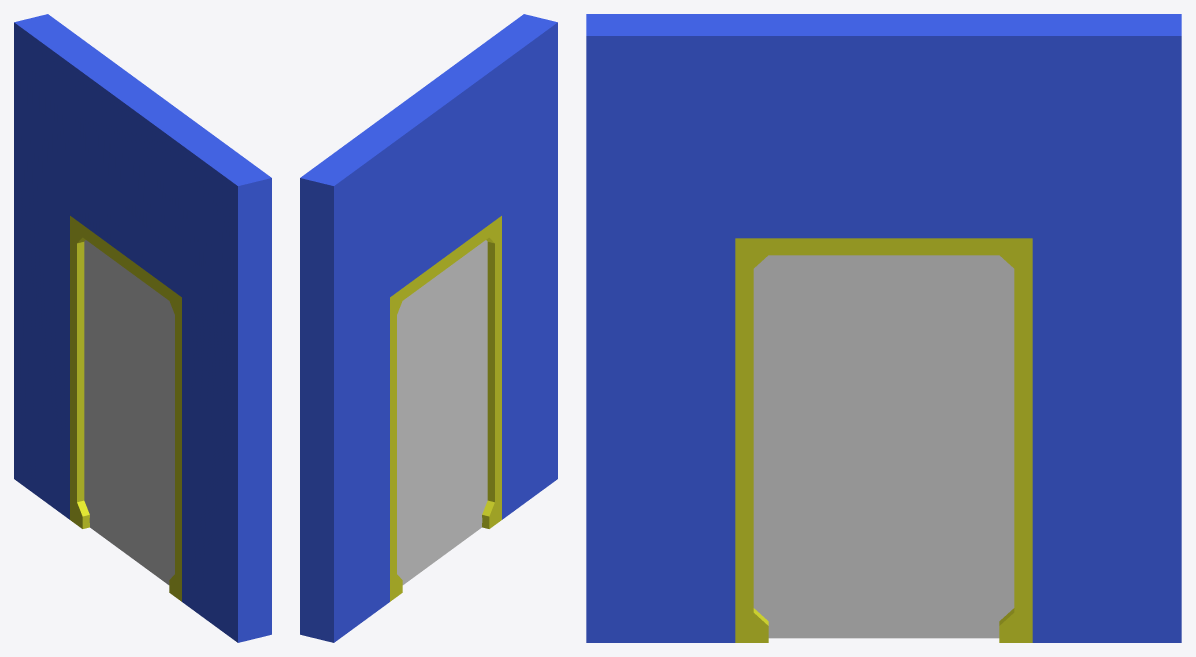
File: Door_B[asset].fbx
3 views of the same model, side by side, from view 1: azimuth 30°, elevation 25°; view 2: azimuth 150°, elevation 25°; view 3: azimuth 270°, elevation 25° (orthographic). The views are drawn at different scales.
Parts seen in each view (by area): view 1: DoorWall_B.002, Door_B.001, DoorFrame_B.001; view 2: DoorWall_B.002, Door_B.001, DoorFrame_B.001; view 3: DoorWall_B.002, Door_B.001, DoorFrame_B.001.
Boxes of the visible parts, x1,y1,x2,y2 form: DoorWall_B.002: (14,14,271,642); Door_B.001: (84,240,174,584); DoorFrame_B.001: (70,216,181,601); DoorWall_B.002: (300,14,557,642); Door_B.001: (397,240,487,584); DoorFrame_B.001: (390,216,501,601); DoorWall_B.002: (586,14,1181,642); Door_B.001: (753,255,1014,638); DoorFrame_B.001: (735,238,1032,642).
Bounding box in the file's own units: 0.35 × 4.5 × 4.
